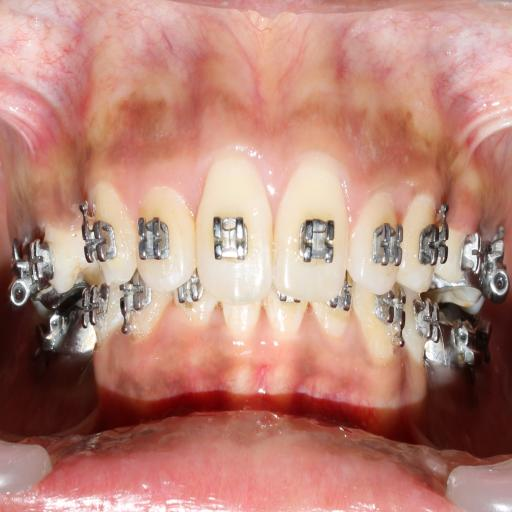correct_brace: (208, 205, 250, 268), (369, 216, 405, 274), (136, 212, 172, 265), (417, 217, 449, 274), (300, 214, 335, 264), (84, 216, 118, 266)
incorrect_brace: (133, 183, 195, 291), (351, 194, 405, 291)
